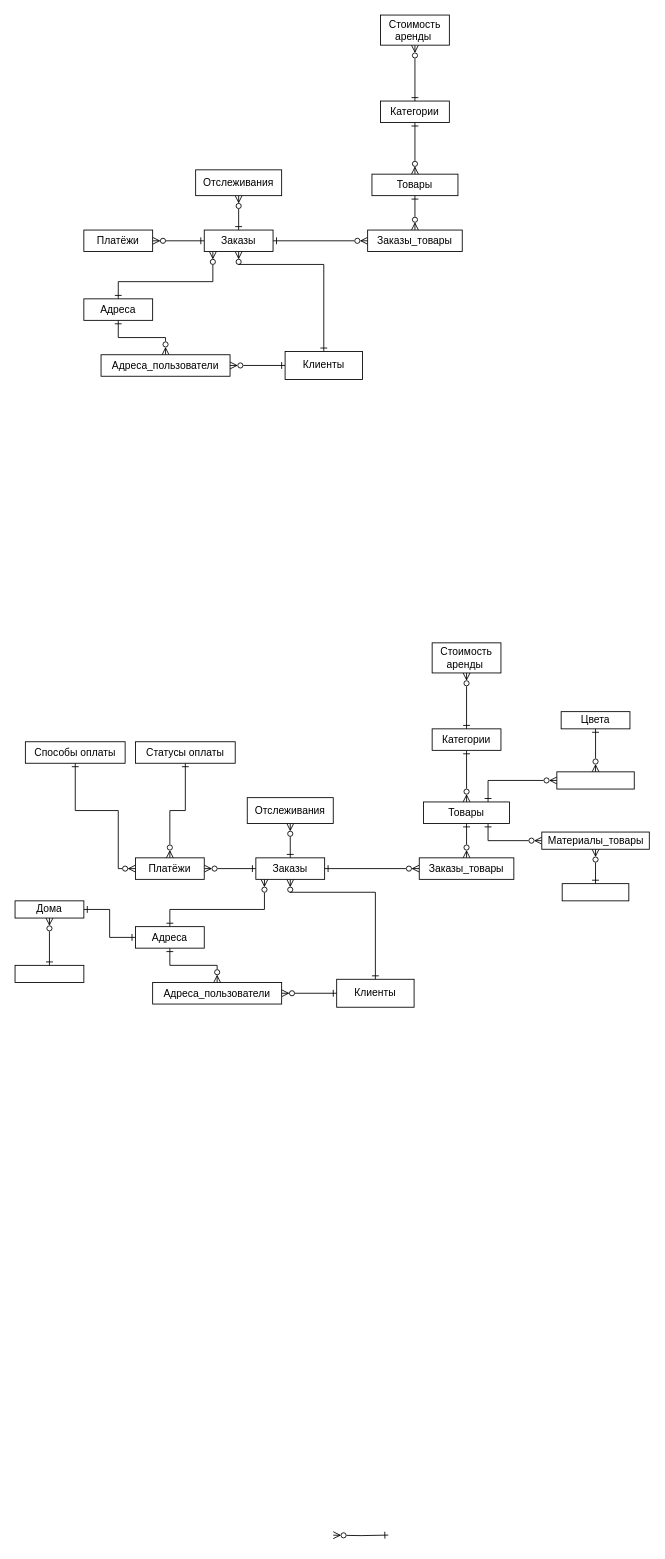
The diagram is 665 pixels wide and 1559 high, and some of its shapes have lost their labels. The centre of each missing label's shape, as x and y in pixels:
Материалы: [595,892]
Улицы: [49,973]
Цвета_товары: [595,780]
